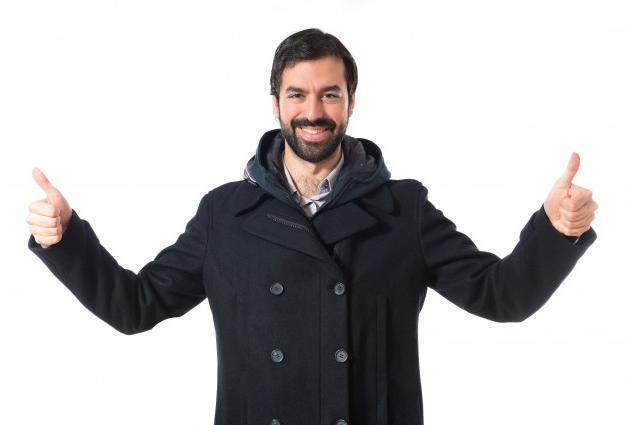thumbsup: (558, 152, 598, 237), (26, 167, 63, 246)
